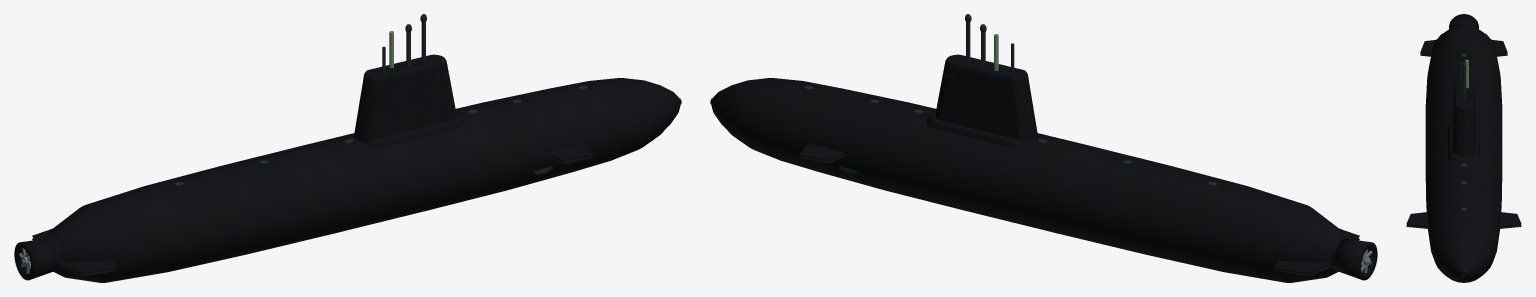
Rendered from submarine-modern.glb.
3 views of the same model, side by side, from view 1: azimuth 30°, elevation 25°; view 2: azimuth 150°, elevation 25°; view 3: azimuth 270°, elevation 25° (orthographic). The views are drawn at different scales.
Parts seen in each view (by area): view 1: Virginia_Hull, Virginia_Sail, Virginia_Pumpjet_Shroud, Virginia_Sail_Fairing, Virginia_Stern_Plane_Port, Virginia_Bow_Plane_Port; view 2: Virginia_Hull, Virginia_Sail, Virginia_Pumpjet_Shroud, Virginia_Sail_Fairing, Virginia_Stern_Plane_Starboard, Virginia_Bow_Plane_Starboard; view 3: Virginia_Hull, Virginia_Sail, Virginia_Sail_Fairing, Virginia_Bow_Plane_Port, Virginia_Bow_Plane_Starboard, Virginia_Pumpjet_Shroud, Virginia_Stern_Plane_Port, Virginia_Stern_Plane_Starboard, Virginia_Photonics_1, Virginia_Snorkel.
Boxes of the visible parts, x1,y1,x2,y2 form: Virginia_Hull: [45, 78, 681, 282]; Virginia_Sail: [354, 54, 456, 142]; Virginia_Pumpjet_Shroud: [14, 239, 57, 280]; Virginia_Sail_Fairing: [353, 111, 465, 148]; Virginia_Stern_Plane_Port: [59, 260, 117, 276]; Virginia_Bow_Plane_Port: [546, 143, 592, 162]; Virginia_Hull: [710, 78, 1346, 282]; Virginia_Sail: [935, 54, 1037, 142]; Virginia_Pumpjet_Shroud: [1334, 239, 1377, 280]; Virginia_Sail_Fairing: [926, 111, 1038, 148]; Virginia_Stern_Plane_Starboard: [1274, 260, 1332, 276]; Virginia_Bow_Plane_Starboard: [799, 143, 845, 162]; Virginia_Hull: [1425, 23, 1502, 282]; Virginia_Sail: [1452, 79, 1475, 156]; Virginia_Sail_Fairing: [1447, 123, 1480, 161]; Virginia_Bow_Plane_Port: [1406, 212, 1428, 228]; Virginia_Bow_Plane_Starboard: [1499, 212, 1521, 228]; Virginia_Pumpjet_Shroud: [1449, 14, 1478, 28]; Virginia_Stern_Plane_Port: [1420, 40, 1435, 56]; Virginia_Stern_Plane_Starboard: [1492, 40, 1507, 56]; Virginia_Photonics_1: [1462, 68, 1465, 99]; Virginia_Snorkel: [1465, 59, 1468, 88].
Size of the model in its own units: 34.11 by 9.46 by 6.73.
Materials: 7 (1 with a texture image).
